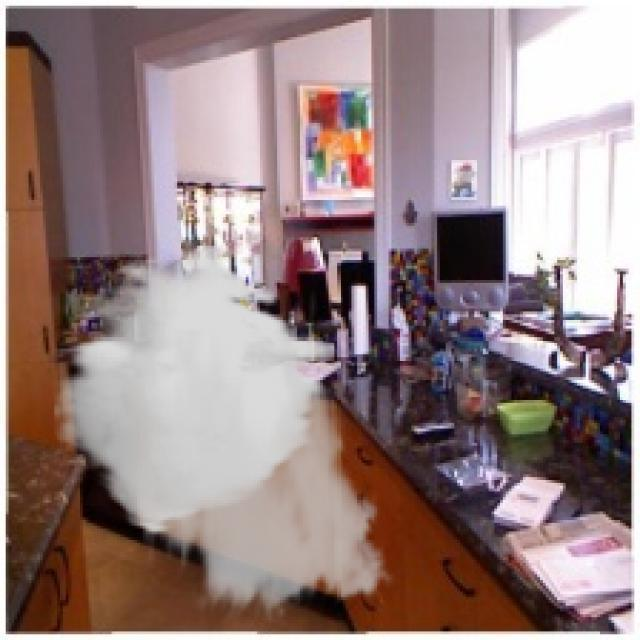Smoke: (54, 243, 400, 623)
